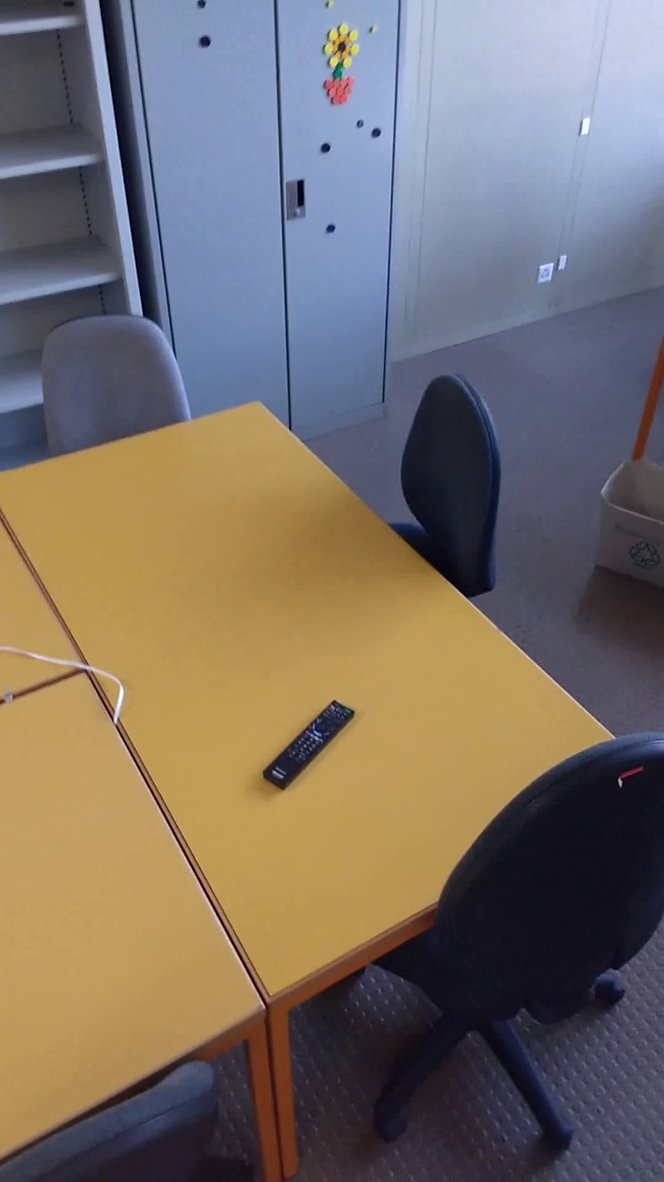box: (586, 440, 664, 606)
chair: (370, 702, 664, 1169), (363, 362, 516, 652), (32, 309, 223, 475)
remote: (254, 692, 377, 802)
